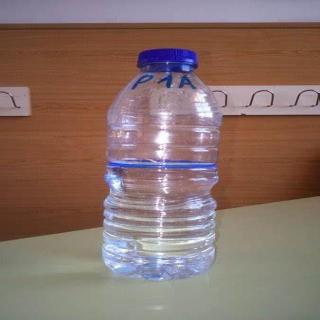Plastic-bottle: (88, 20, 236, 315)
